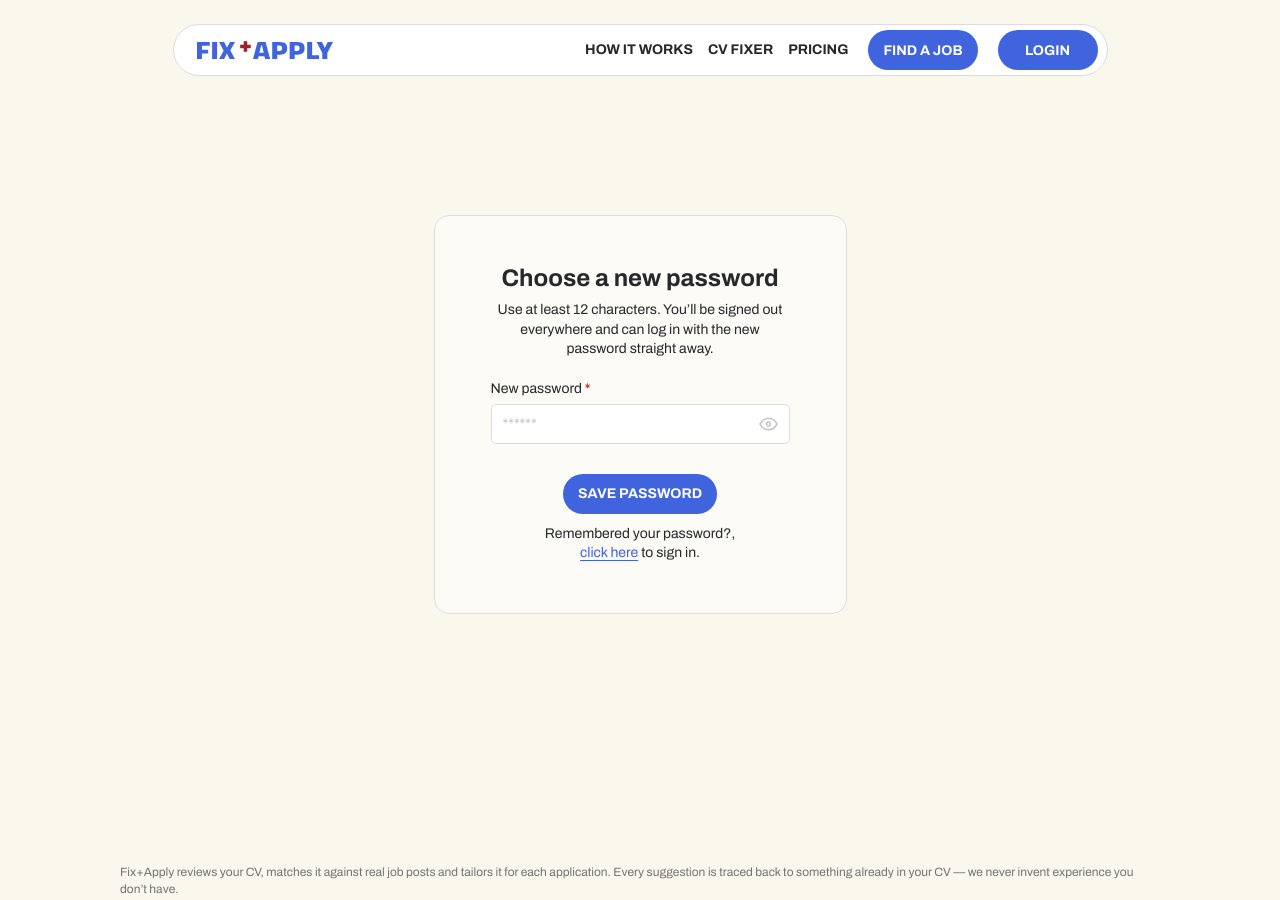
Scenario: ResetPasswordPage › explains an expired or used link and offers a new one
The width and height of the screenshot is (1280, 900).
Type "BrandNewPassword1" into the password field labelled "New password *" at (640, 424), box [492,405,788,443]
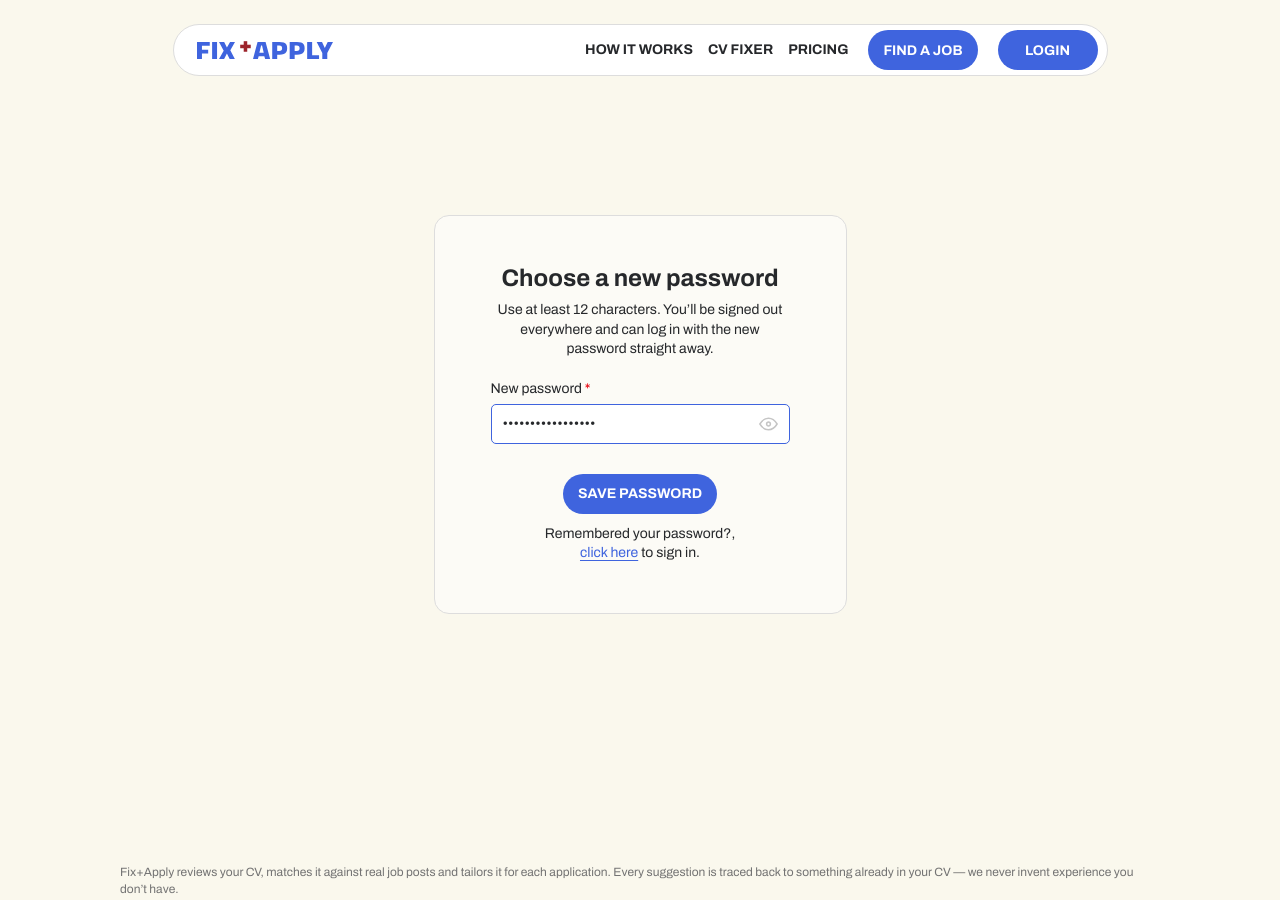
Click the button "Save password" at (640, 494), box [563,474,717,514]
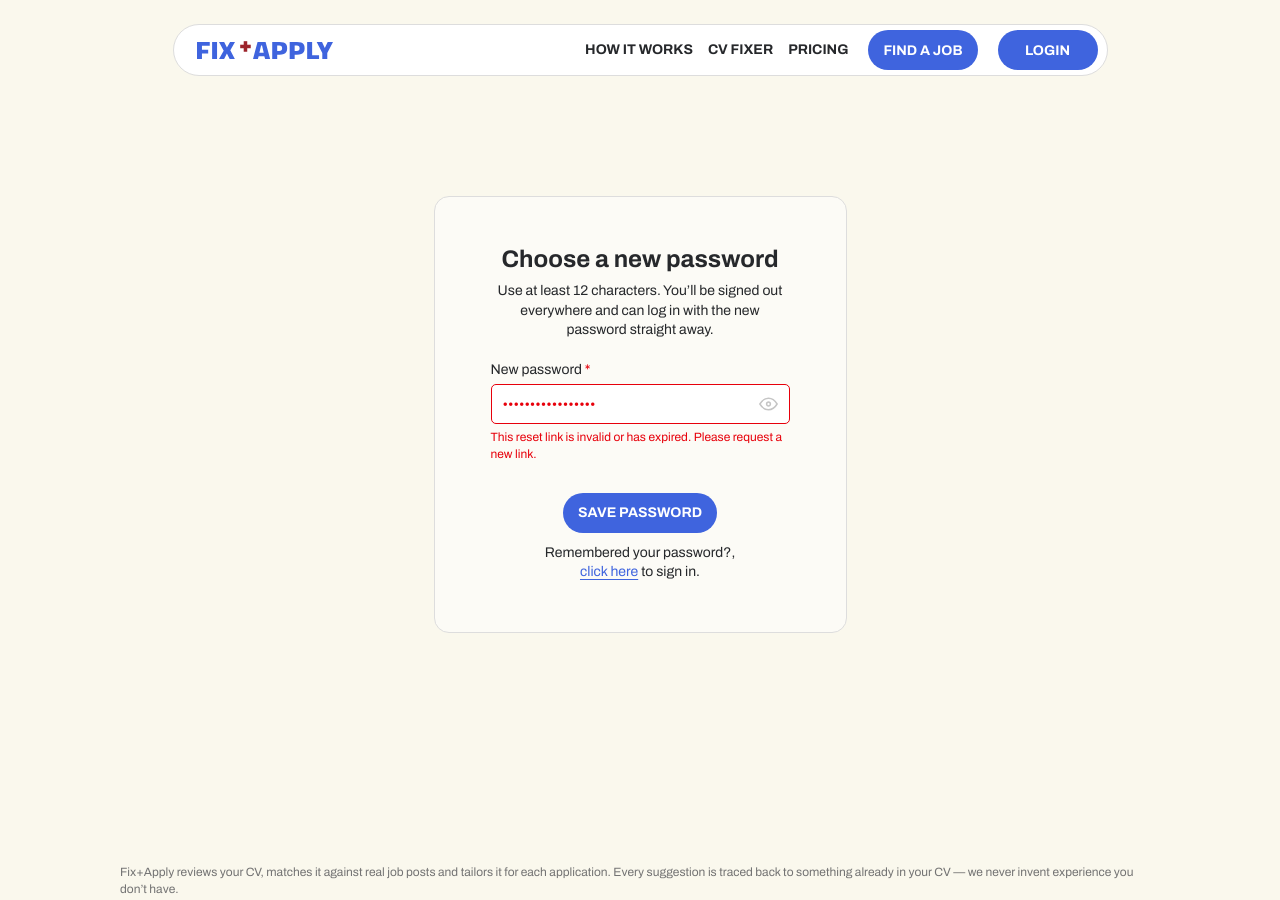
expect the text "This reset link is invalid or has expired. Please request a new link ." is shown: met, box [490,429,790,463]
